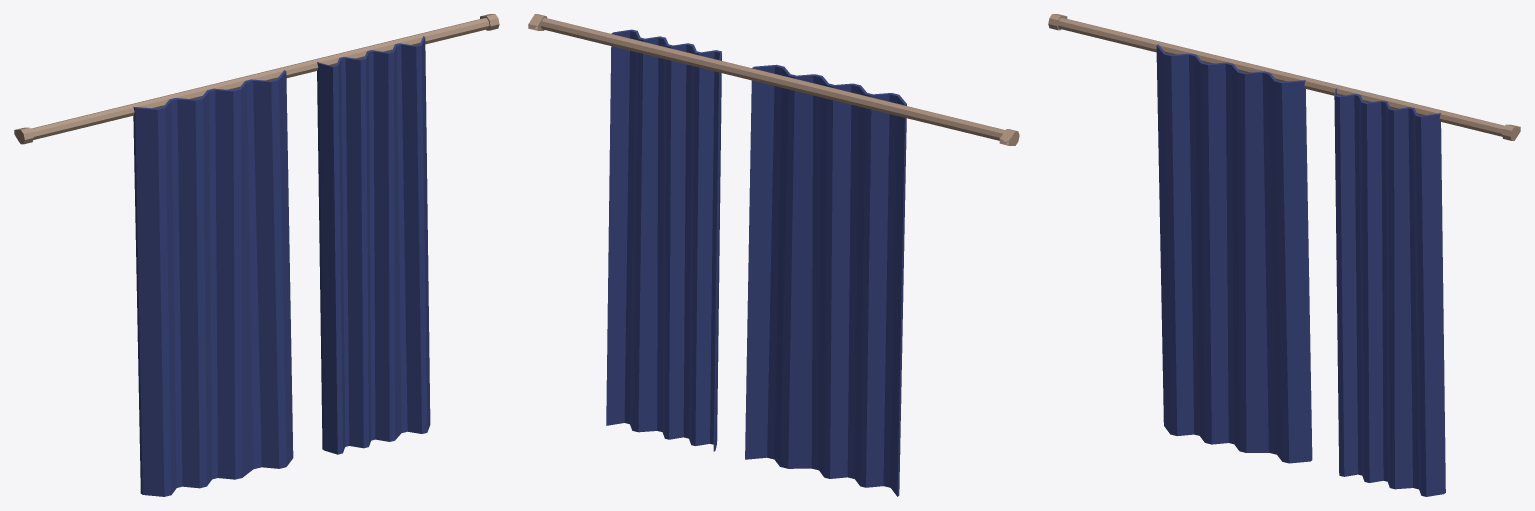
The model's file is Curtains_7.fbx.
3 views of the same model, side by side, from view 1: azimuth 30°, elevation 25°; view 2: azimuth 150°, elevation 25°; view 3: azimuth 330°, elevation 25° (orthographic). The views are drawn at different scales.
Parts seen in each view (by area): view 1: Curtains_7; view 2: Curtains_7; view 3: Curtains_7.
Part boxes in pixels (left/top/right/bottom): Curtains_7: left=14, top=14, right=499, bottom=496; Curtains_7: left=528, top=14, right=1019, bottom=496; Curtains_7: left=1048, top=14, right=1520, bottom=496.
Bounding box in the file's own units: 478 × 30.91 × 376.
